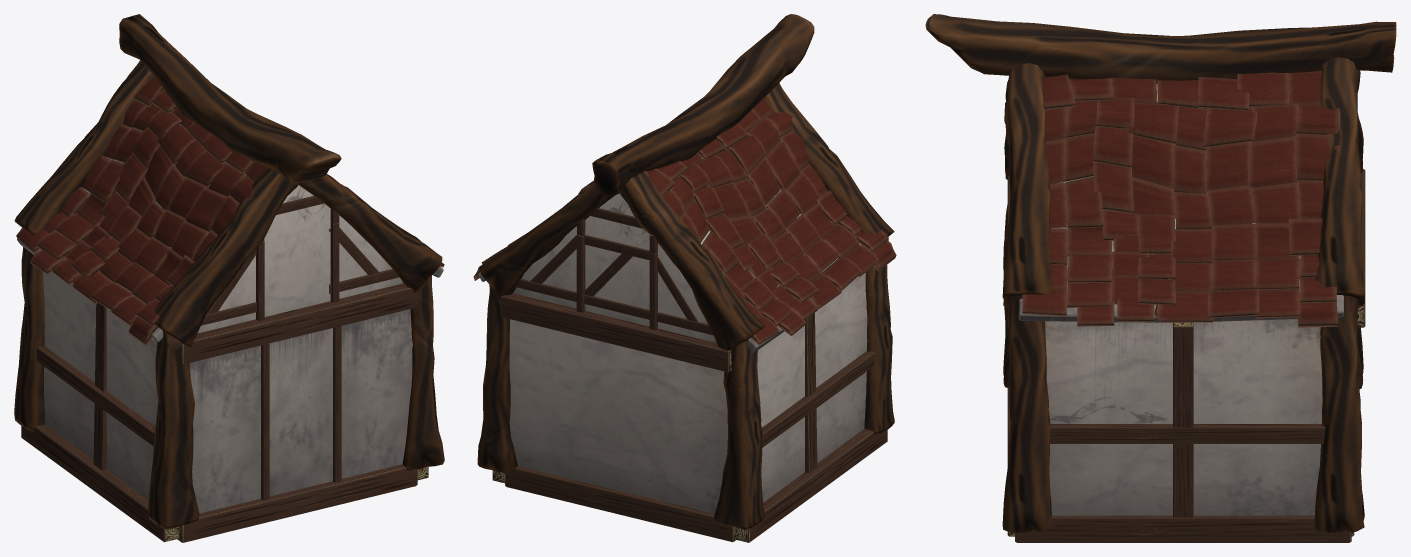
File: Ready_House_V1.fbx
3 renders of one model, left to right at view 1: azimuth 30°, elevation 25°; view 2: azimuth 150°, elevation 25°; view 3: azimuth 270°, elevation 25°, orthographic. The views are drawn at different scales.
Parts seen in each view (by area): view 1: Xanochka; view 2: Xanochka; view 3: Xanochka.
Part boxes in pixels (x1,y1,x2,y2): Xanochka: (14, 14, 444, 542); Xanochka: (473, 14, 896, 542); Xanochka: (925, 14, 1396, 542).
Bounding box in the file's own units: 426 × 501 × 475.
